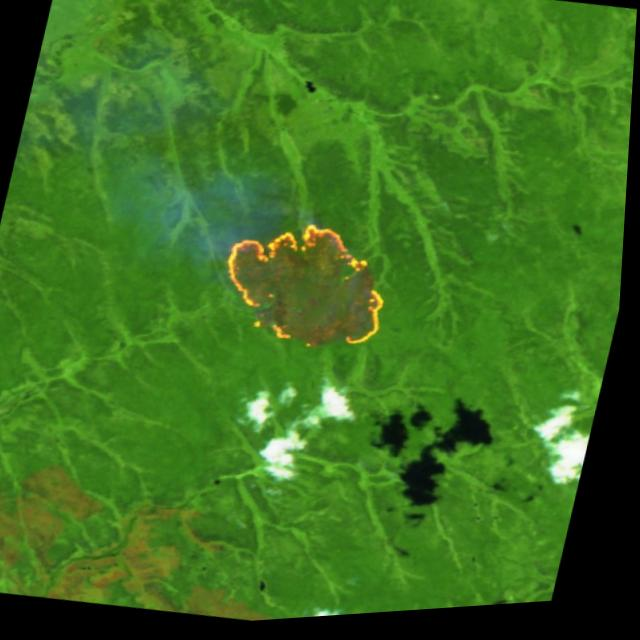fire: (206, 206, 409, 371)
